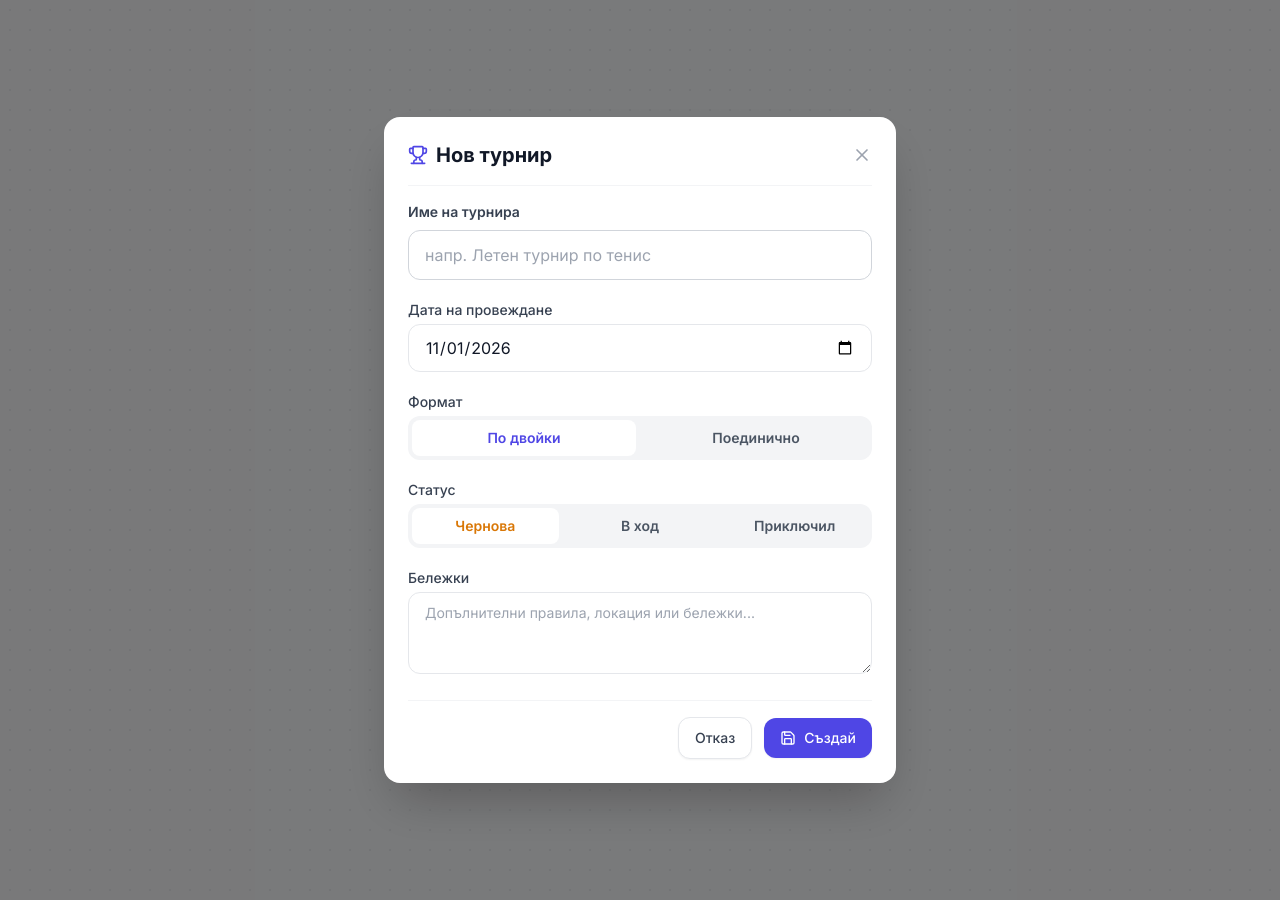
Test: TournamentModal › shows validation error when title is empty
Click the button "Създай". click: x=818, y=738
box: [764, 718, 872, 758]
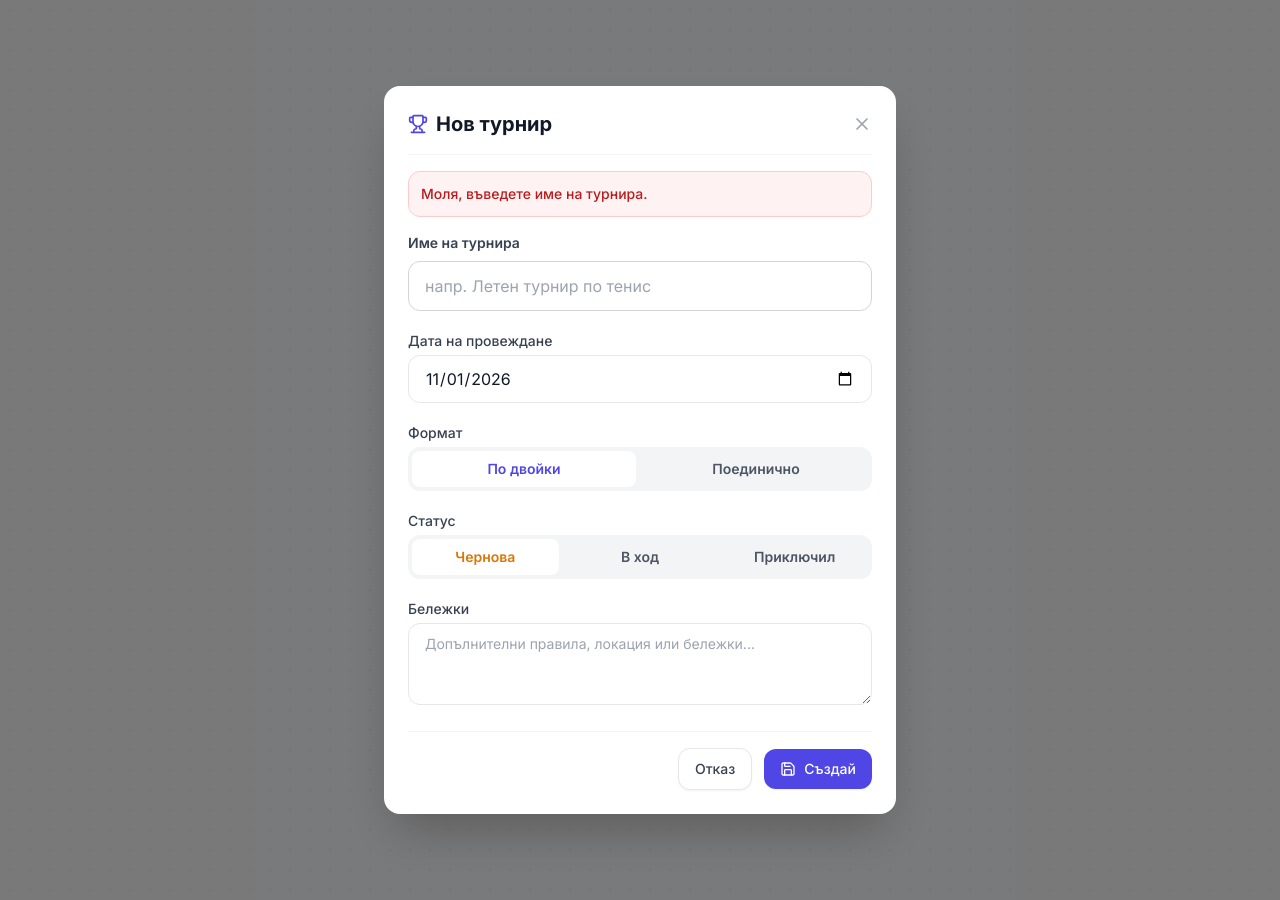
Check: the message reads "Моля, въведете име на турнира.", box [421, 185, 648, 202]
